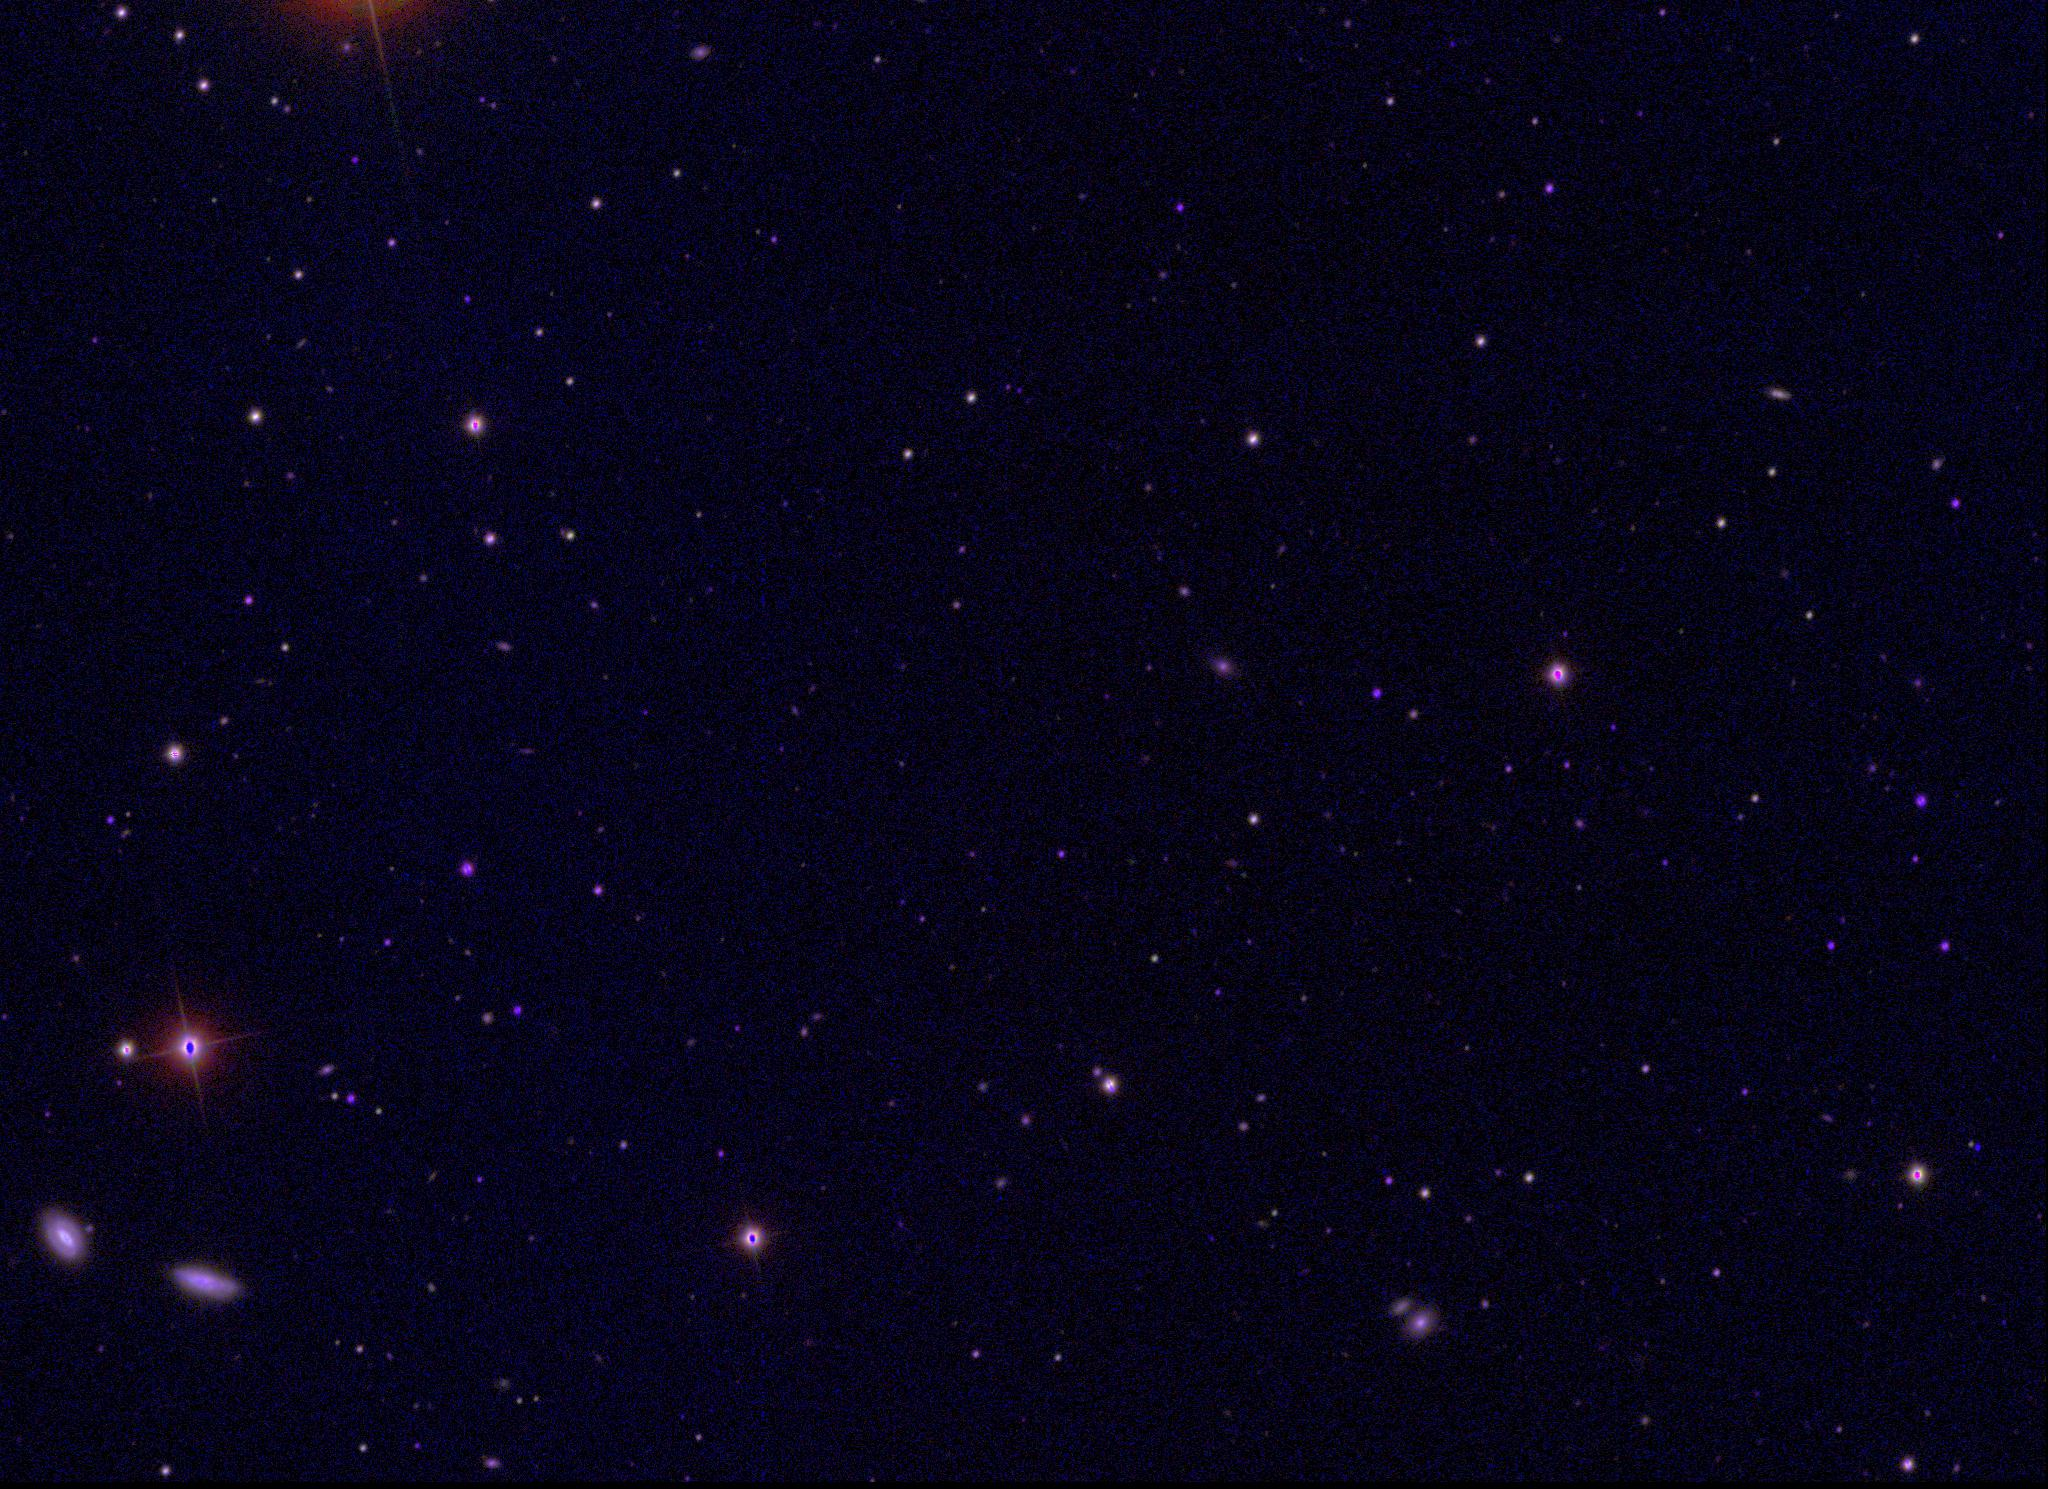L: (1970, 1141, 1984, 1153)
